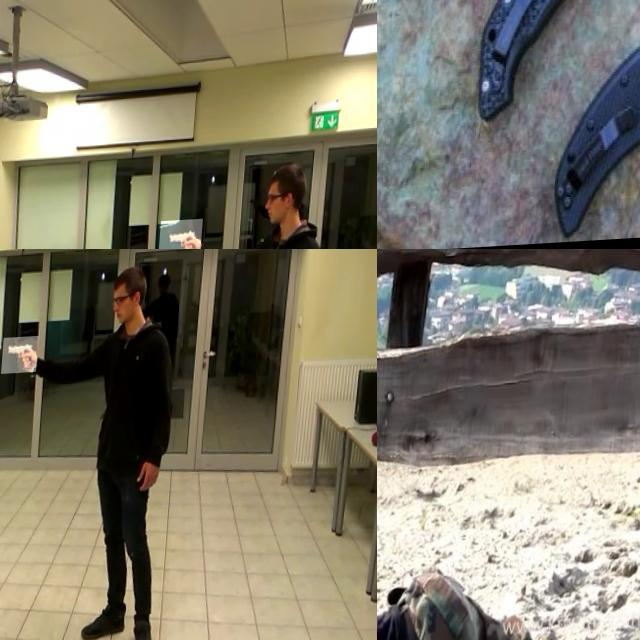-: (377, 249, 433, 303)
gun-knife-thesis - v11 Yolov5 augmented: (6, 339, 44, 377), (163, 222, 207, 249)
